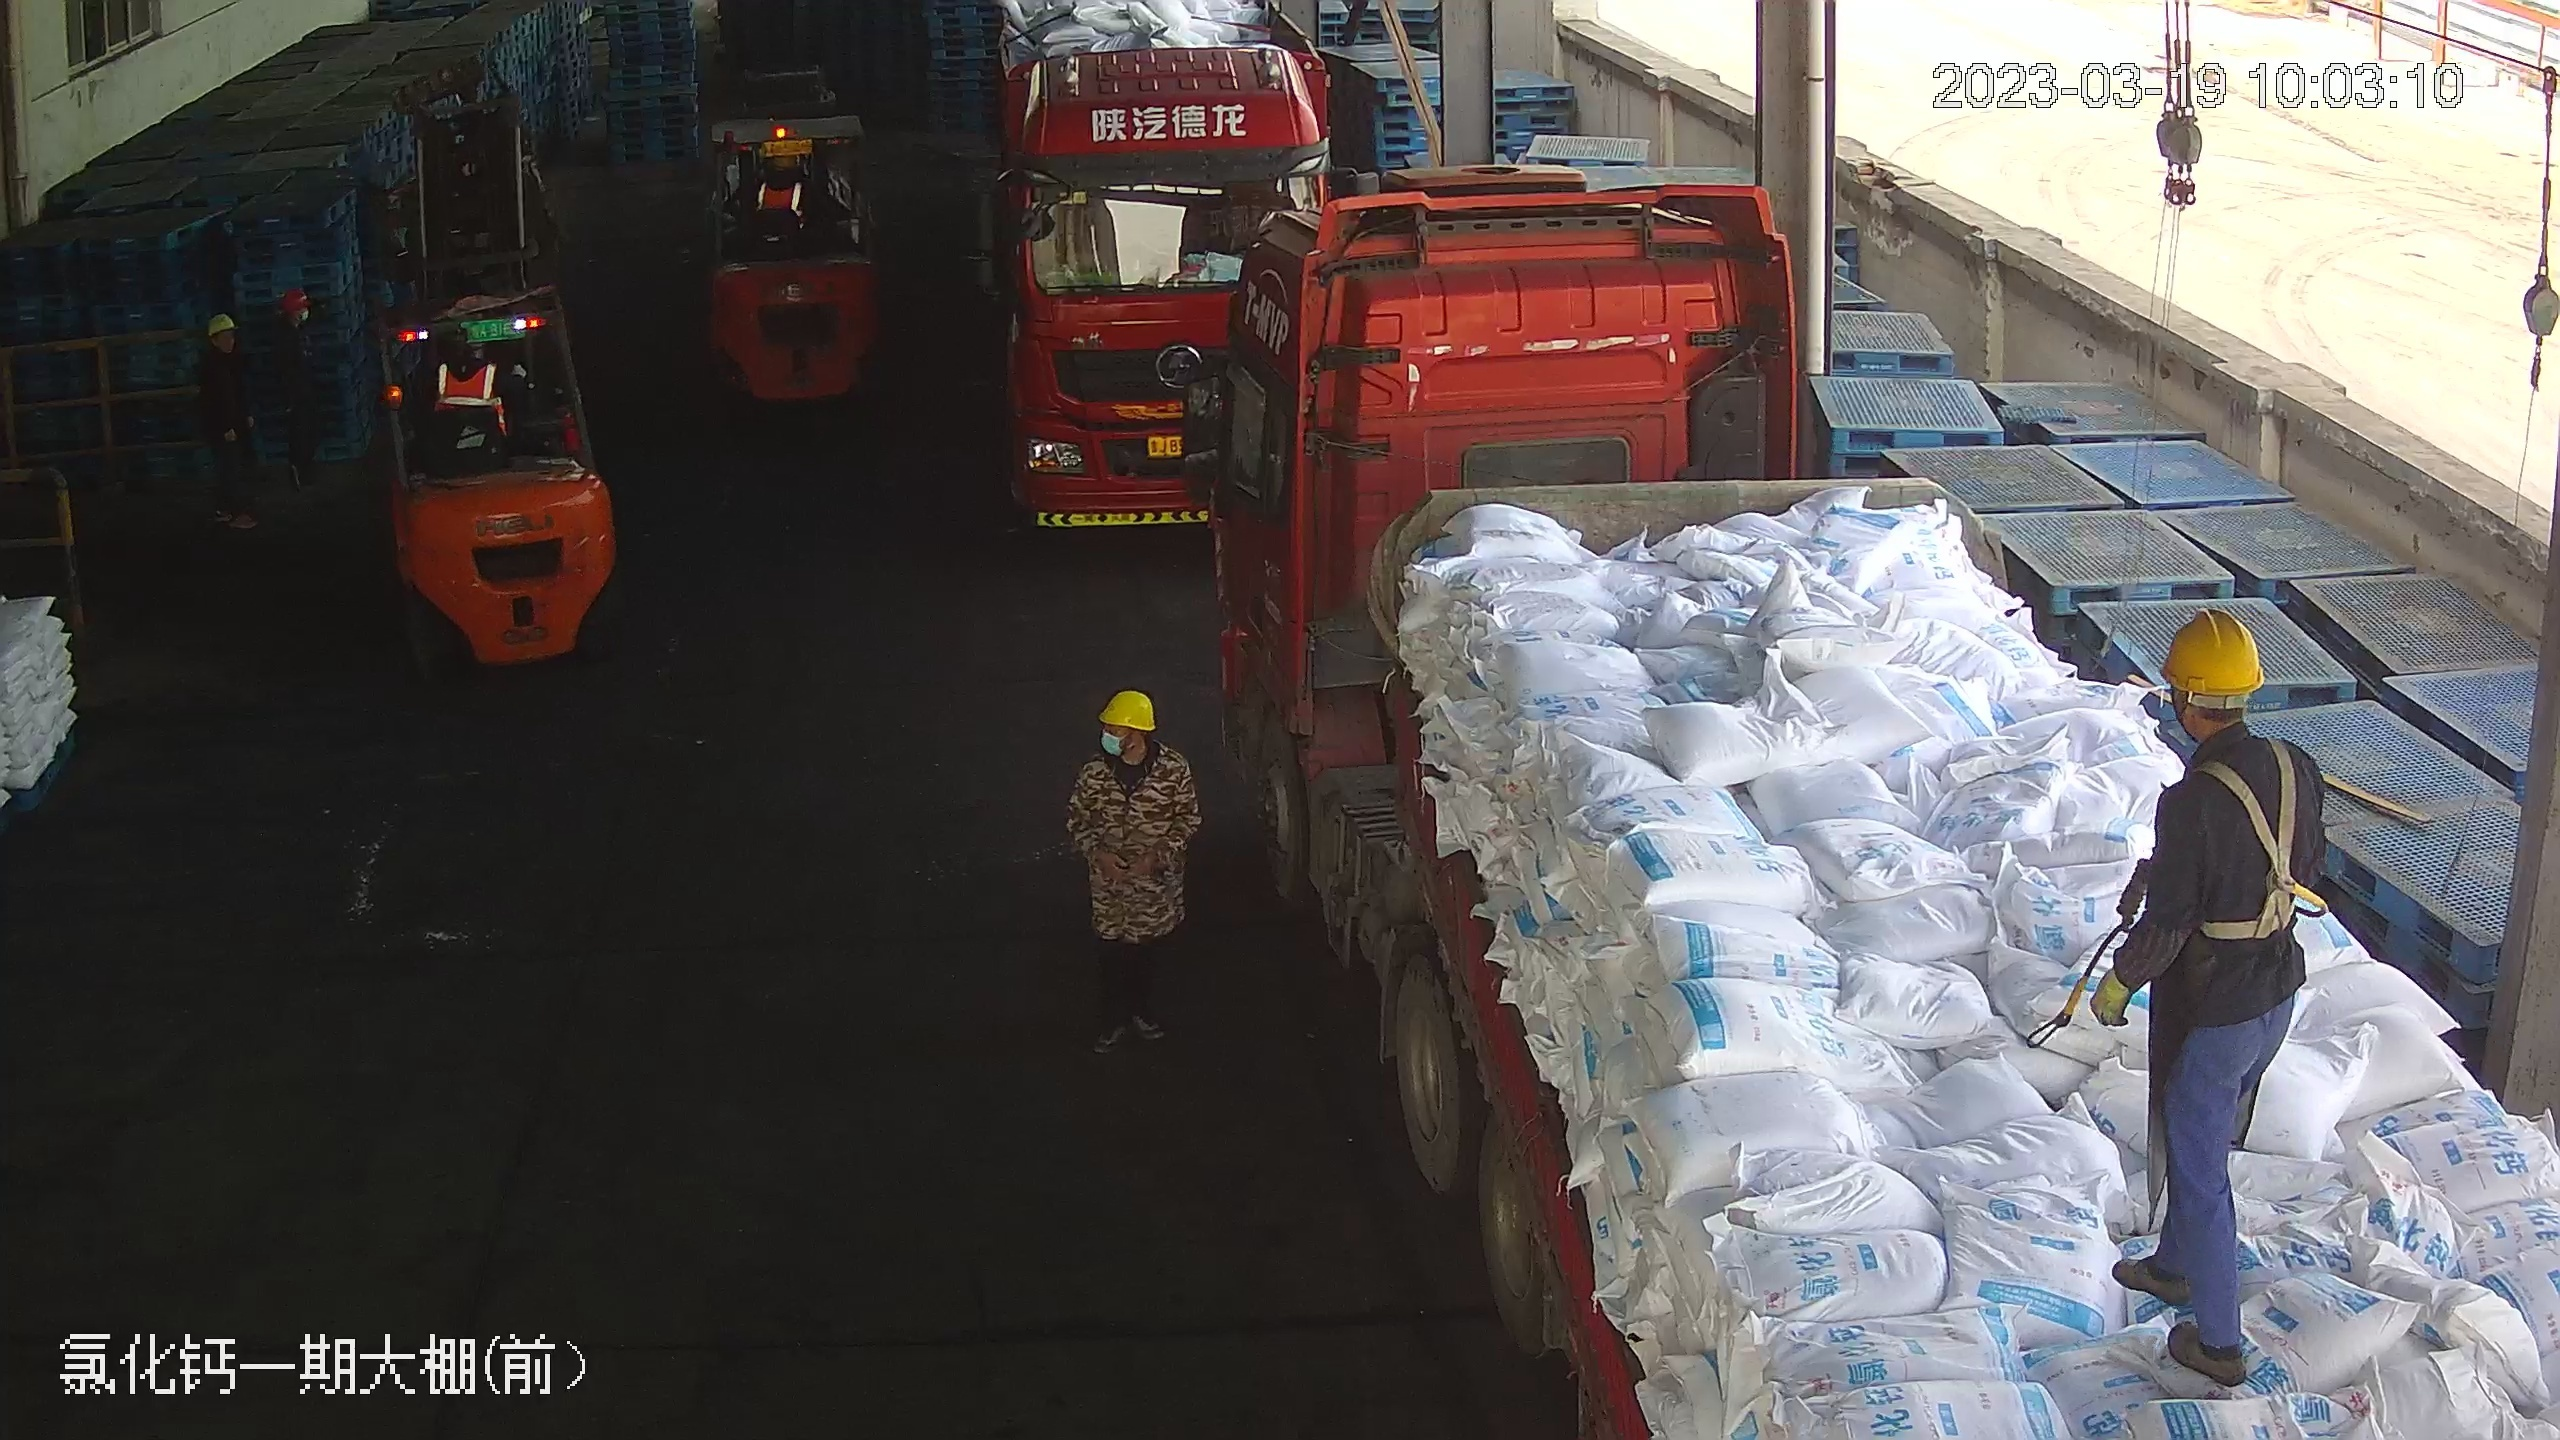belt: (2183, 731, 2329, 950)
head: (2129, 600, 2316, 836), (1067, 689, 1196, 815), (195, 312, 253, 383), (265, 286, 321, 361)
helmet: (2132, 602, 2317, 836), (2154, 604, 2262, 693), (1096, 687, 1159, 732), (204, 312, 242, 342), (277, 286, 312, 313)
people: (2073, 603, 2318, 1383), (1062, 691, 1197, 1061), (194, 307, 268, 540), (262, 281, 331, 513)
truck: (1191, 166, 2338, 1440), (965, 3, 1336, 528)
